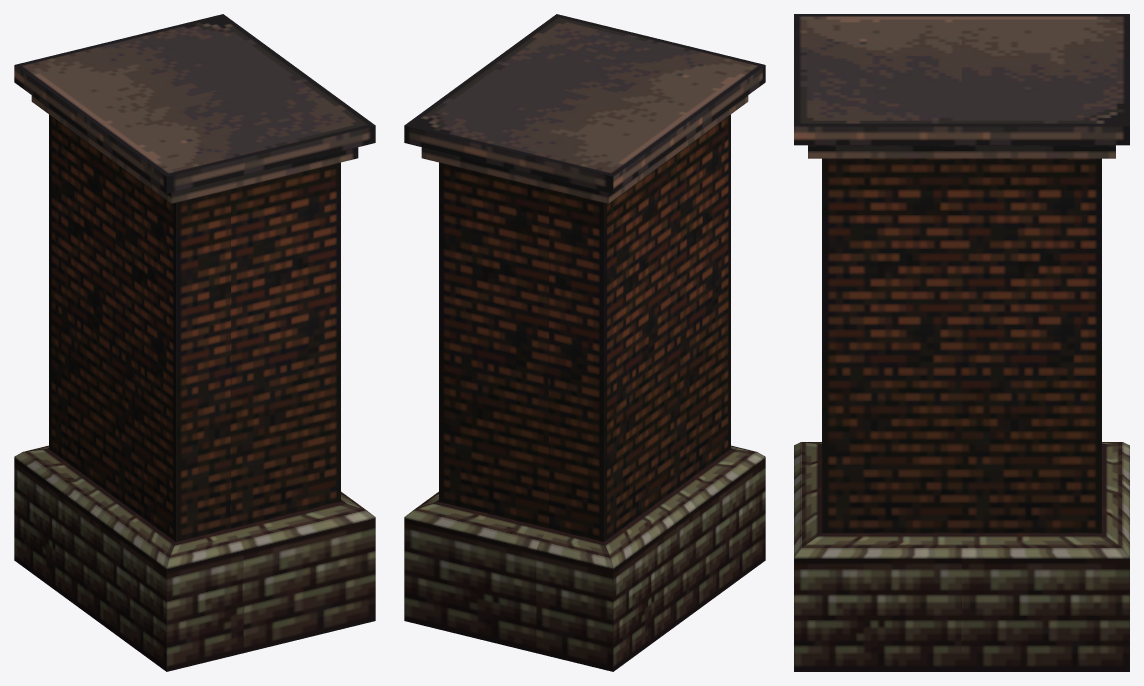
Rendered from EnvBdgMD_Factory_B_Outdoor_Piller_C.FBX.
3 renders of one model, left to right at view 1: azimuth 30°, elevation 25°; view 2: azimuth 150°, elevation 25°; view 3: azimuth 270°, elevation 25°, orthographic. The views are drawn at different scales.
Visible parts, largest first — view 1: EnvBdgMD_Factory_B_Outdoor_Piller_C; view 2: EnvBdgMD_Factory_B_Outdoor_Piller_C; view 3: EnvBdgMD_Factory_B_Outdoor_Piller_C.
Part boxes in pixels (x1=…): EnvBdgMD_Factory_B_Outdoor_Piller_C: x1=14, y1=14, x2=375, y2=671; EnvBdgMD_Factory_B_Outdoor_Piller_C: x1=404, y1=14, x2=765, y2=671; EnvBdgMD_Factory_B_Outdoor_Piller_C: x1=794, y1=14, x2=1129, y2=671.
Size of the model in its own units: 190 by 430 by 240.
